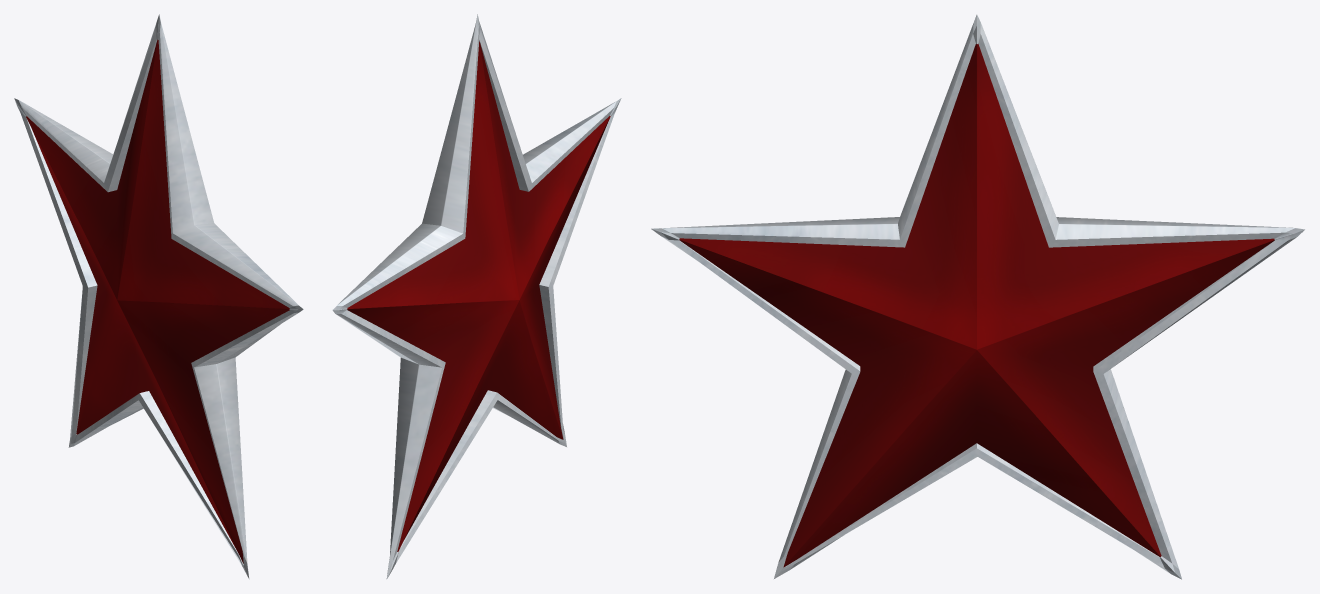
File: Star_4.dae
3 views of the same model, side by side, from view 1: azimuth 30°, elevation 25°; view 2: azimuth 150°, elevation 25°; view 3: azimuth 270°, elevation 25° (orthographic). The views are drawn at different scales.
Visible parts, largest first — view 1: Star_inside, Star_out; view 2: Star_inside, Star_out; view 3: Star_inside, Star_out.
Part boxes in pixels (x1,y1,x2,y2): Star_inside: [26, 39, 289, 563]; Star_out: [14, 14, 303, 579]; Star_inside: [347, 41, 610, 551]; Star_out: [332, 14, 621, 579]; Star_inside: [679, 44, 1274, 567]; Star_out: [651, 14, 1304, 579].
Bounding box in the file's own units: 0.9036 × 5.1 × 5.35.
Materials: 1 (1 with a texture image).
